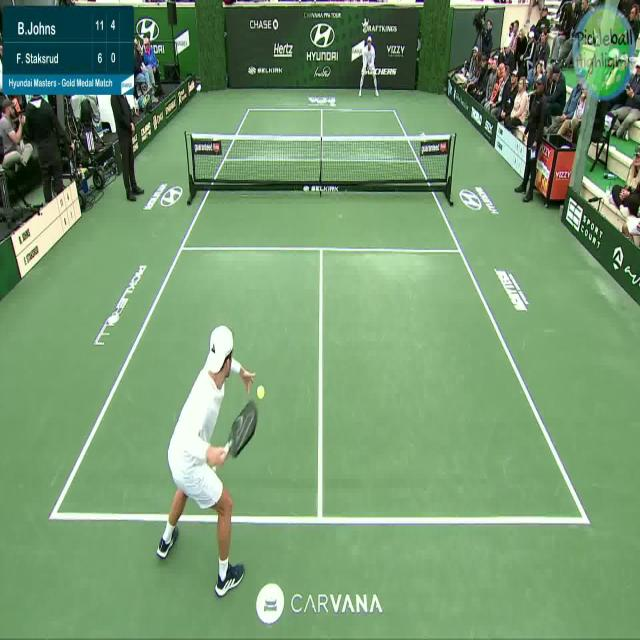ball: (255, 380, 266, 400)
